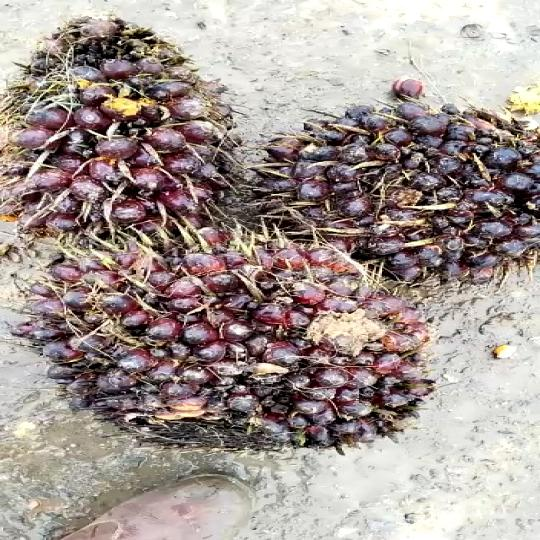kurang masak: (29, 218, 431, 468), (256, 84, 540, 292), (0, 10, 250, 230)
